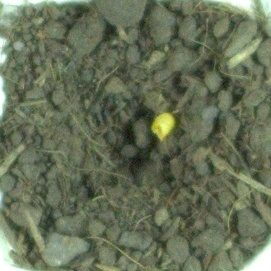pepper seed: (62, 40, 239, 182)
